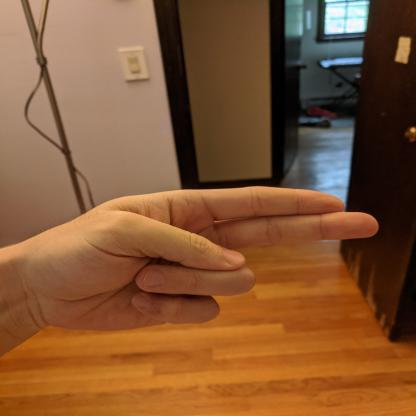H: (35, 181, 383, 336)
